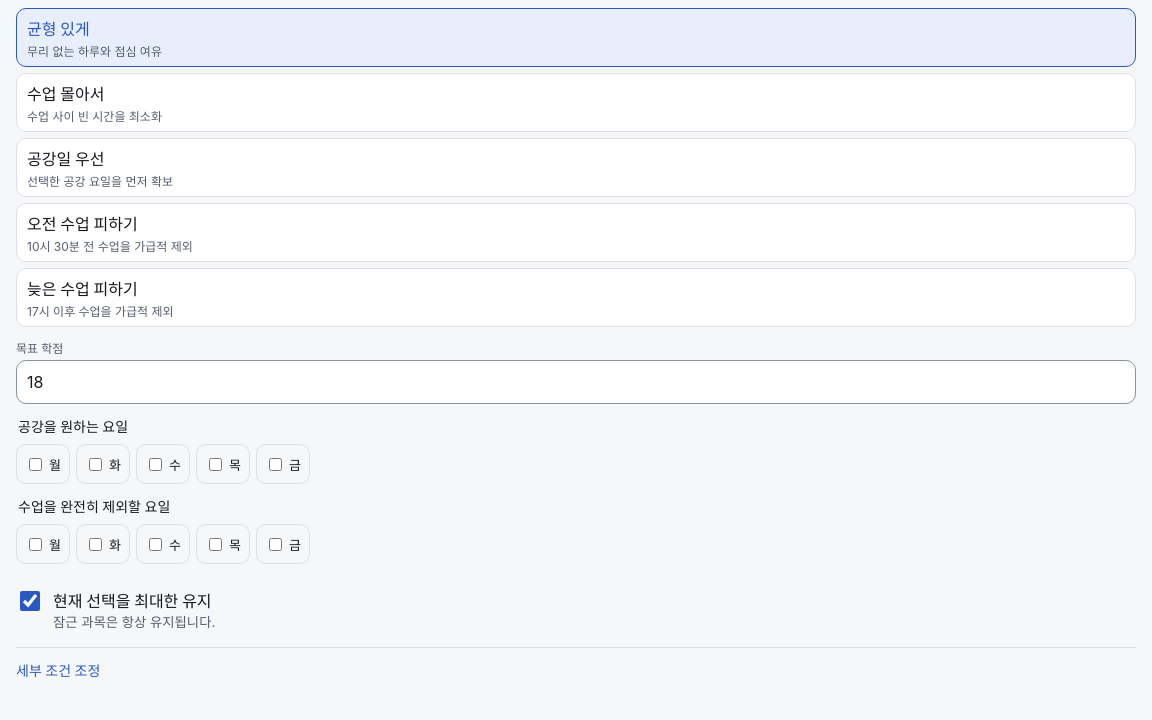
Test case: optimizer credit preferences › keeps minimum, target and maximum in an API-valid interval
(page scrolled)
Click the heading "세부 조건 조정" at [58, 670], box x1=16 y1=662 x2=100 y2=679
(page scrolled)
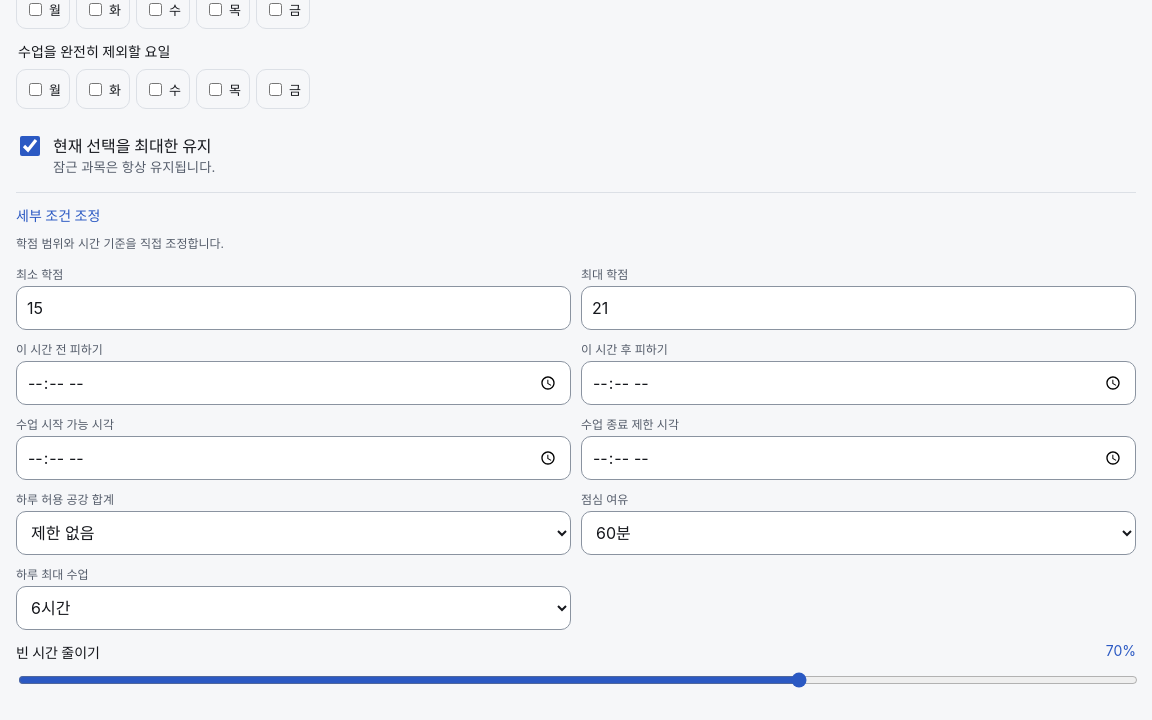
Replace the text in the number field labelled "최대 학점" with "12" at [858, 308], box x1=581 y1=286 x2=1136 y2=330
(page scrolled)
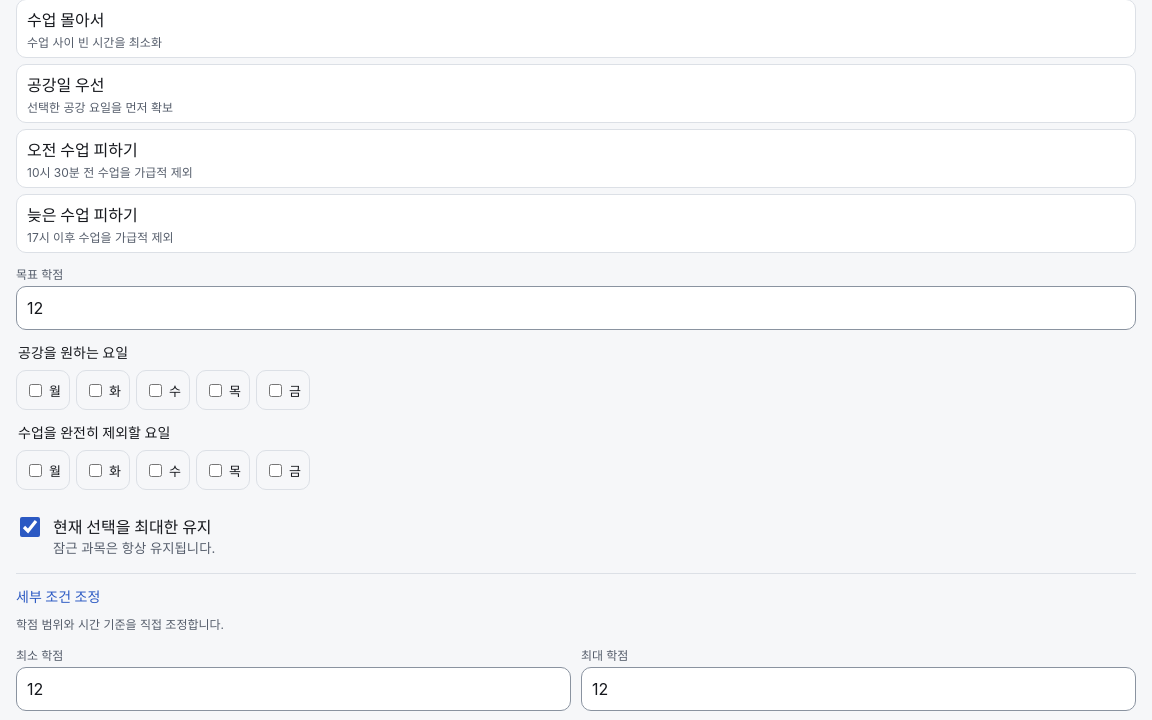
Expected: the number field labelled "최소 학점" holds "12", x1=16 y1=667 x2=571 y2=711
Expected: the number field labelled "목표 학점" holds "12"
Replace the text in the number field labelled "목표 학점" with "24" at [576, 308], box x1=16 y1=286 x2=1136 y2=330
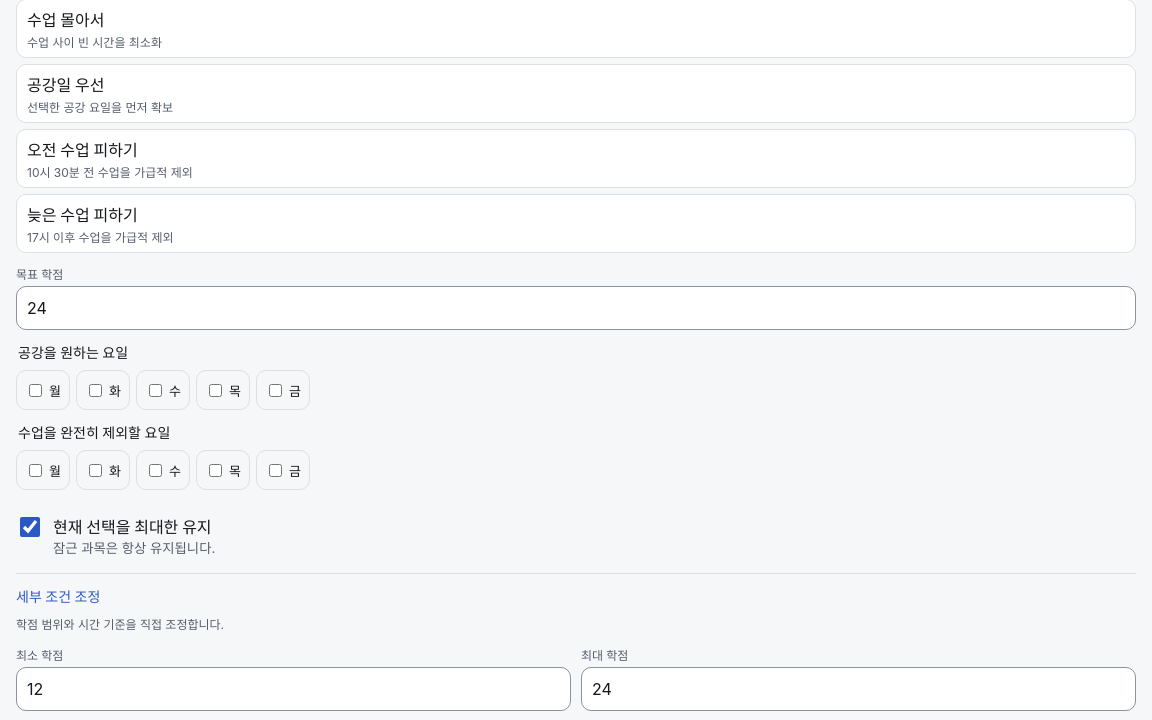
Expected: the number field labelled "최대 학점" holds "24", x1=581 y1=667 x2=1136 y2=711
